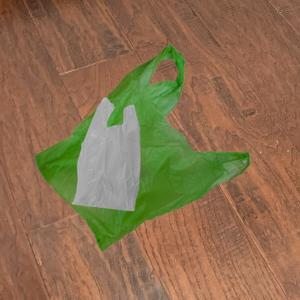plastic_bag: (23, 40, 252, 257), (69, 94, 146, 223)
